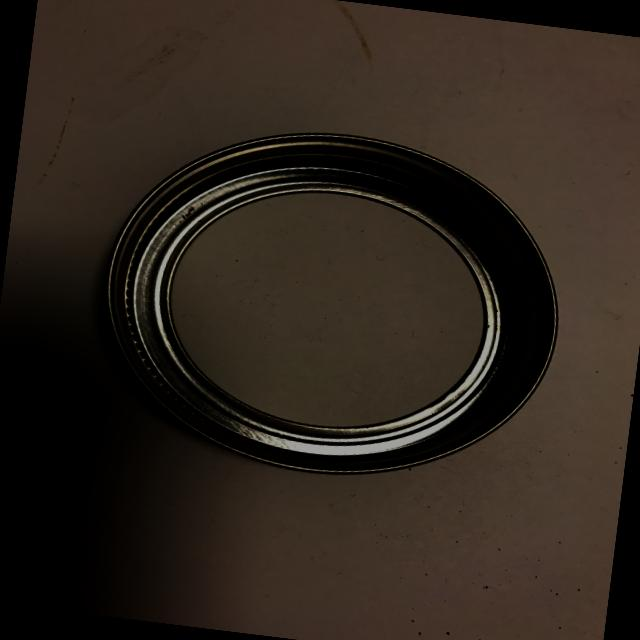Metal: (69, 96, 597, 516)
